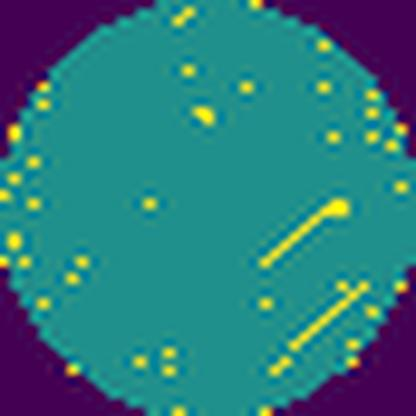Scratch: (249, 192, 360, 282), (286, 271, 374, 360)
